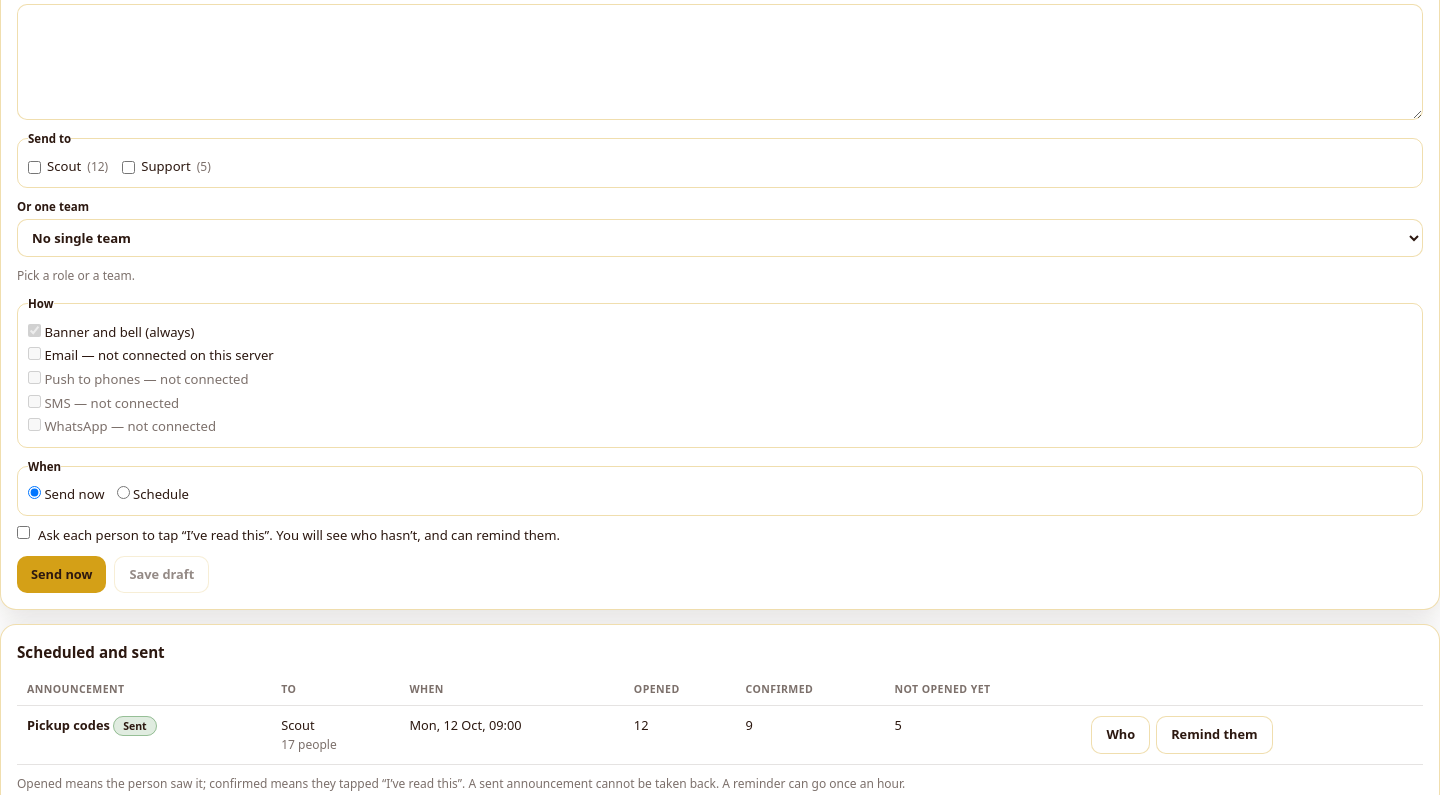
it: StaffAnnouncementsPanel › reminds those who have not confirmed and shows the server reason when refused
(page scrolled)
Click the button with aria-label "Remind them about Pickup codes": (1214, 735) [1156,716,1273,754]
(page scrolled)
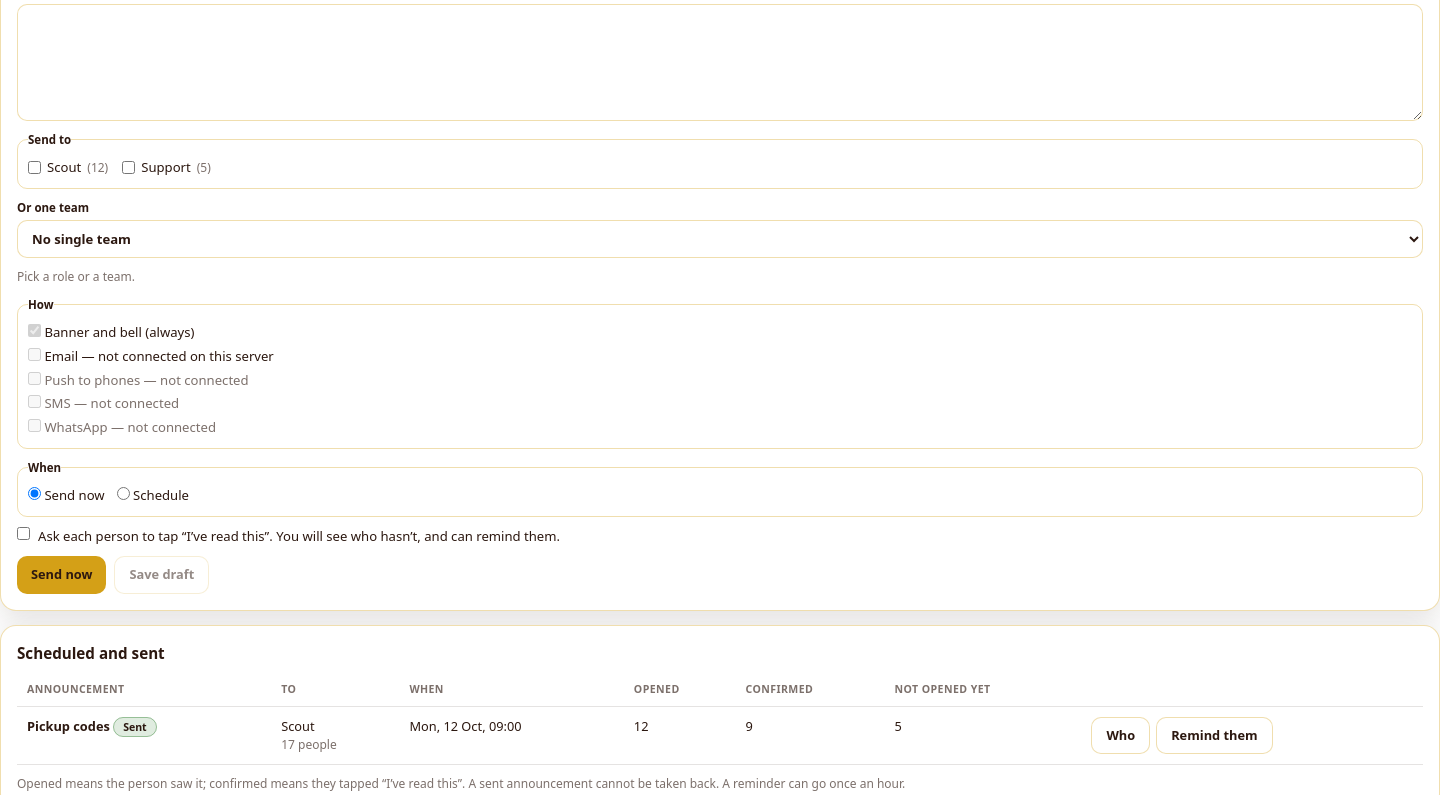
Click the button with aria-label "Remind them about Pickup codes": (1214, 736) [1156,717,1273,754]
(page scrolled)
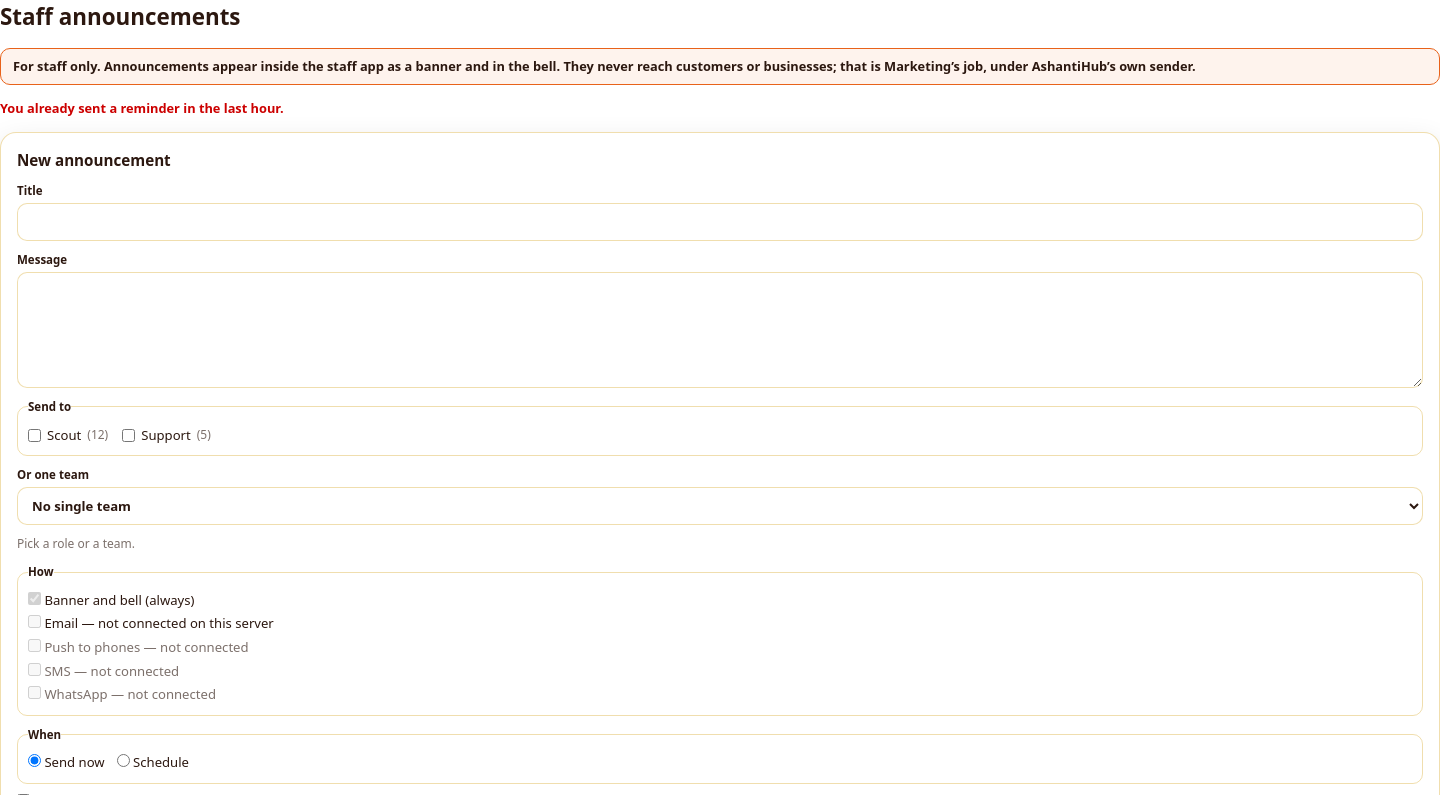
Expected: the message shows "already sent a reminder", [0,99,284,117]
